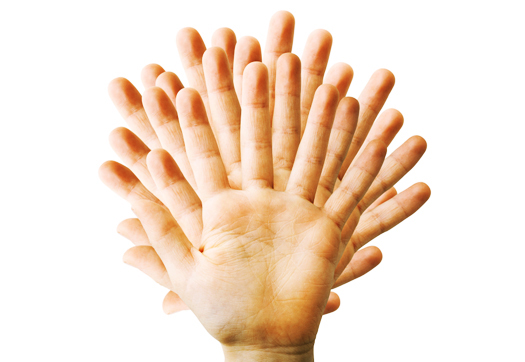finger: (109, 119, 196, 229), (148, 81, 224, 201), (107, 73, 185, 185), (176, 90, 234, 191), (351, 178, 433, 249), (355, 133, 424, 216), (309, 95, 359, 209), (316, 143, 388, 220), (146, 149, 210, 230), (260, 7, 290, 179), (104, 160, 182, 225), (199, 49, 248, 151), (277, 54, 311, 189), (239, 61, 276, 182), (295, 20, 319, 178)
